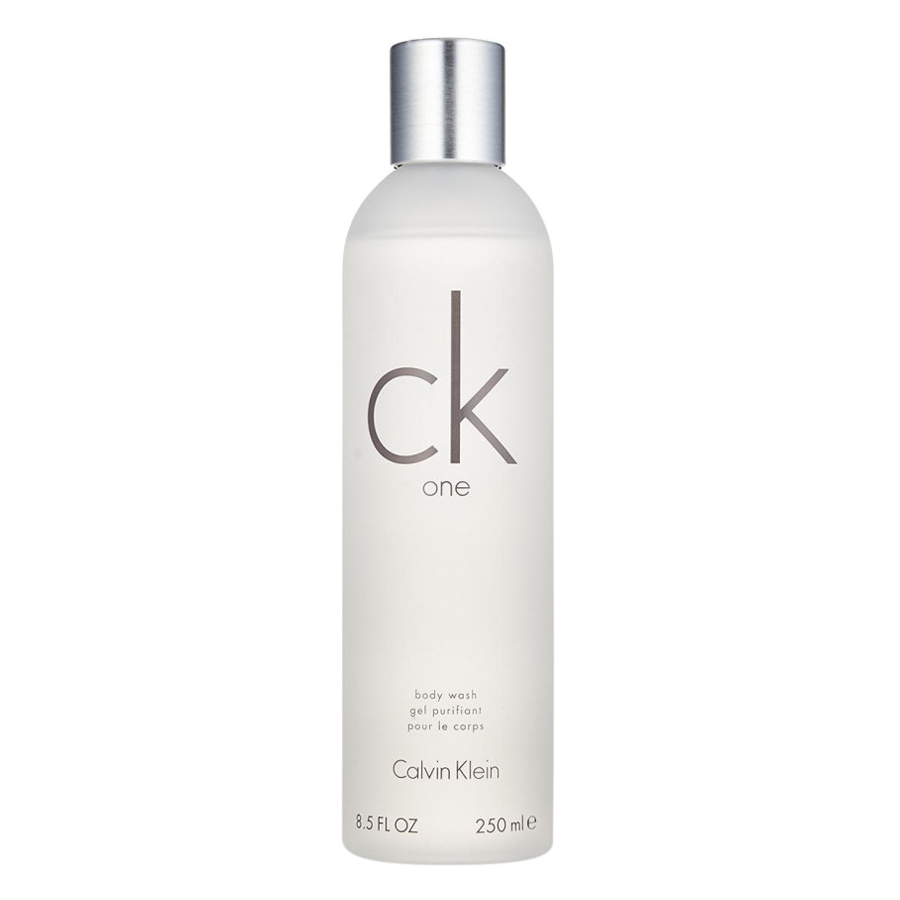Calvin Klein: (362, 281, 528, 469), (380, 746, 504, 784)
